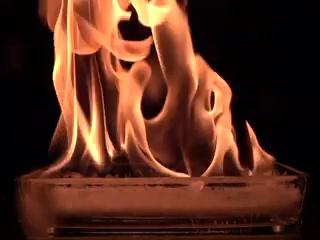Fire: (34, 1, 272, 175)
